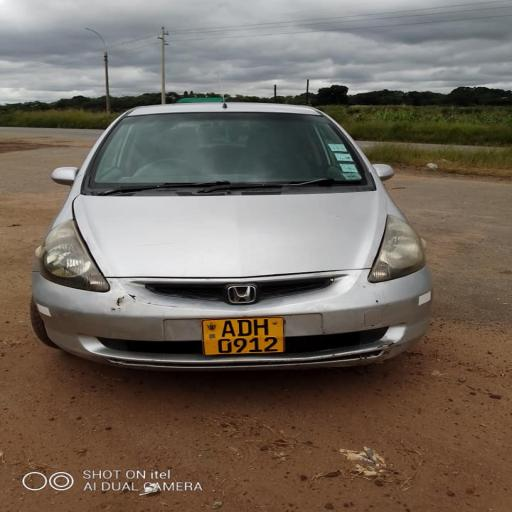number-plates: (204, 316, 286, 356)
